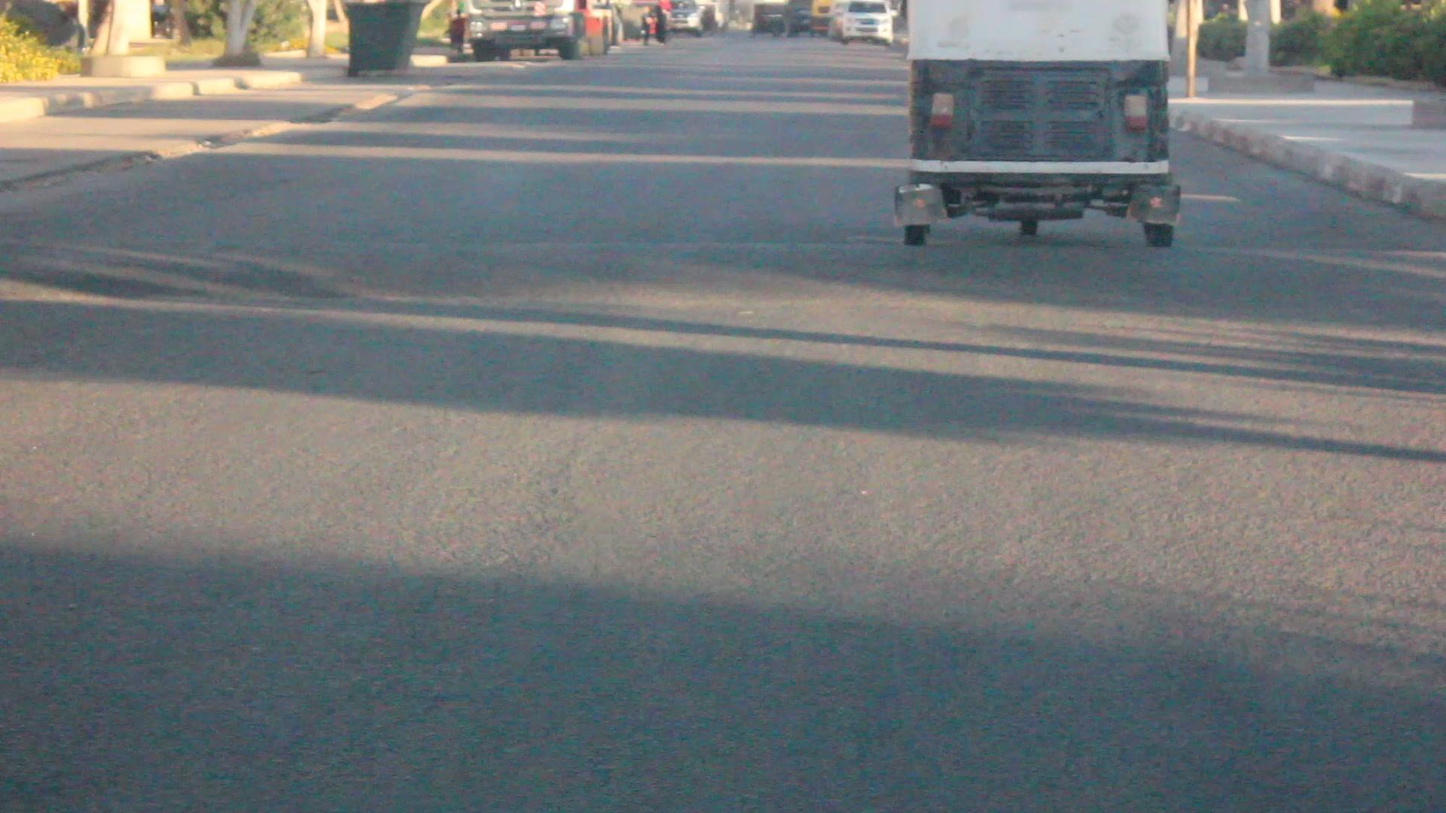Bump: (0, 237, 1446, 346)
